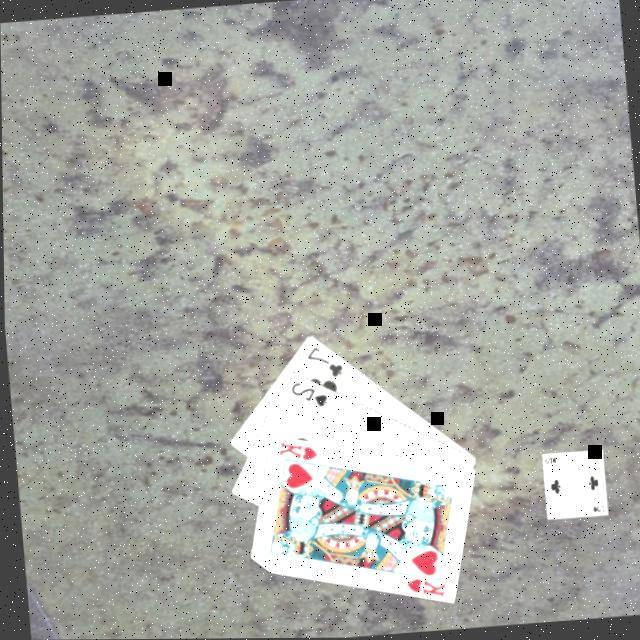2S: (288, 376, 332, 412)
7C: (302, 342, 347, 382)
KH: (274, 437, 320, 466), (402, 574, 448, 602)
